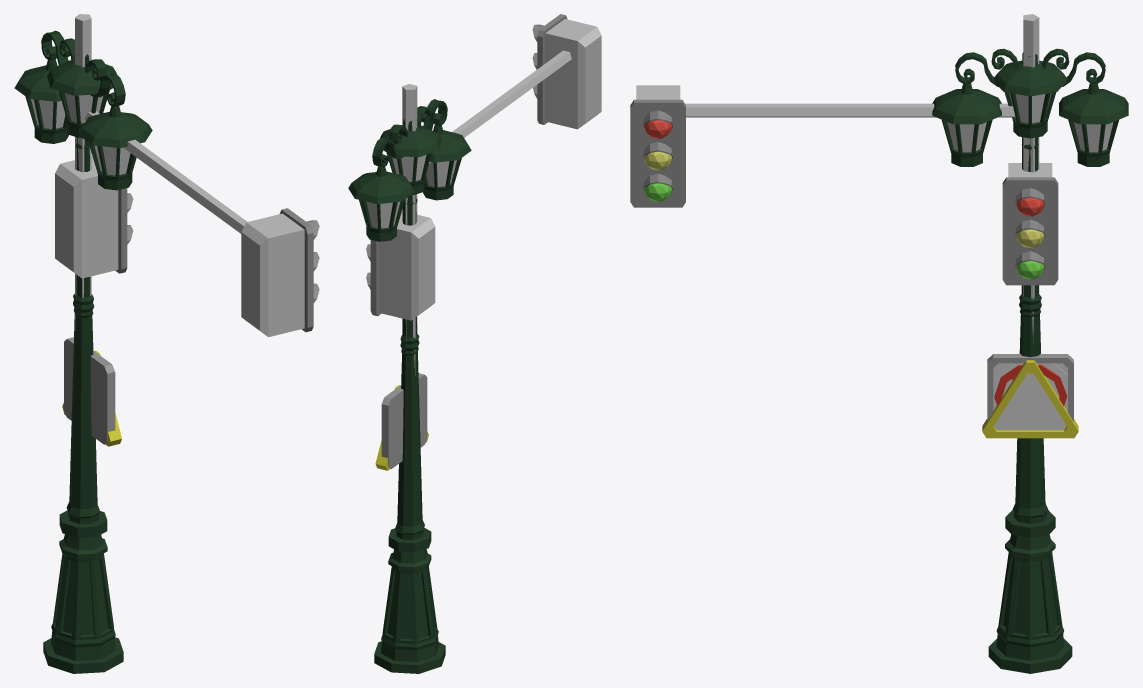
The model's file is streetprops.glb.
The picture shows the model from 3 angles, left to right: view 1: azimuth 30°, elevation 25°; view 2: azimuth 150°, elevation 25°; view 3: azimuth 270°, elevation 25°; orthographic projection. The views are drawn at different scales.
Parts seen in each view (by area): view 1: Streetlight_Double_Cylinder.005, TrafficLight_2_Cylinder.007, TrafficLight_Cylinder.006, Streetlight_Single_Cylinder.003, Parking_Cylinder.002; view 2: Streetlight_Double_Cylinder.005, TrafficLight_2_Cylinder.007, TrafficLight_Cylinder.006, Streetlight_Single_Cylinder.003, Parking_Cylinder.002; view 3: Streetlight_Double_Cylinder.005, TrafficLight_2_Cylinder.007, TrafficLight_Cylinder.006, Streetlight_Single_Cylinder.003, Triangle_Cylinder.001, Parking_Cylinder.002.
Boxes of the visible parts, <box> form: Streetlight_Double_Cylinder.005: <box>14,30,152,673</box>; TrafficLight_2_Cylinder.007: <box>75,14,319,337</box>; TrafficLight_Cylinder.006: <box>55,156,133,330</box>; Streetlight_Single_Cylinder.003: <box>47,54,117,661</box>; Parking_Cylinder.002: <box>64,337,115,444</box>; Streetlight_Double_Cylinder.005: <box>348,99,471,673</box>; TrafficLight_2_Cylinder.007: <box>402,14,601,573</box>; TrafficLight_Cylinder.006: <box>366,211,435,374</box>; Streetlight_Single_Cylinder.003: <box>379,119,442,666</box>; Parking_Cylinder.002: <box>381,373,427,469</box>; Streetlight_Double_Cylinder.005: <box>932,48,1128,673</box>; TrafficLight_2_Cylinder.007: <box>630,14,1039,207</box>; TrafficLight_Cylinder.006: <box>1002,163,1058,562</box>; Streetlight_Single_Cylinder.003: <box>993,55,1067,673</box>; Triangle_Cylinder.001: <box>982,360,1078,438</box>; Parking_Cylinder.002: <box>987,354,1073,421</box>.
Bounding box in the file's own units: 0.1534 × 1.13 × 0.801.
